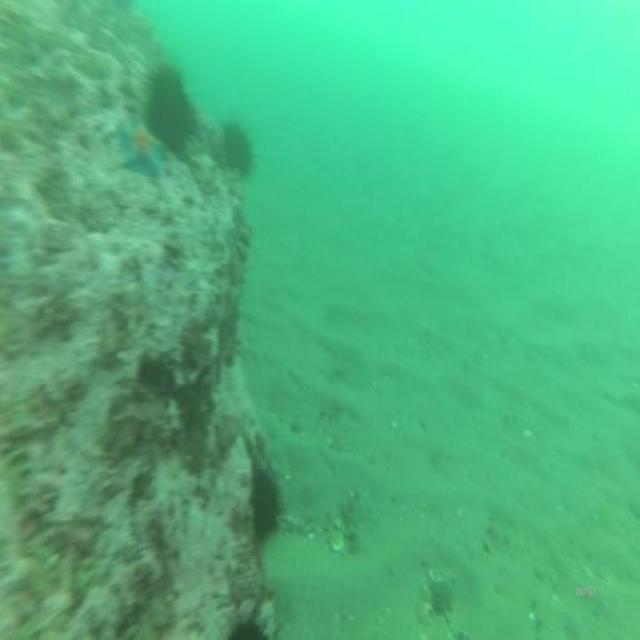echinus: (145, 58, 201, 158), (249, 466, 281, 550), (222, 114, 254, 182)
starfish: (115, 116, 162, 176)
